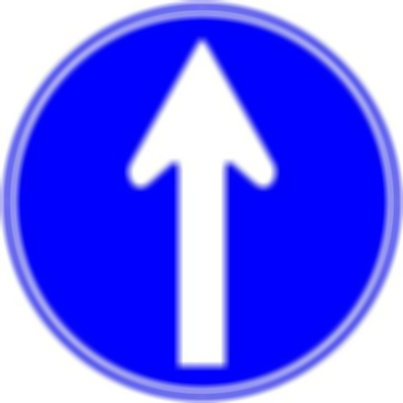Direction_sign: (4, 3, 400, 400)
